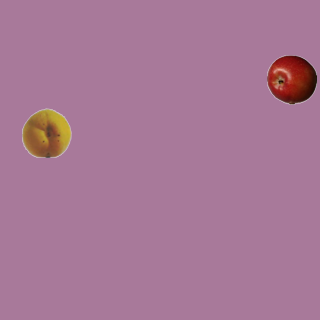Apple Braeburn: (266, 54, 316, 104)
Peach 2: (21, 107, 71, 157)
